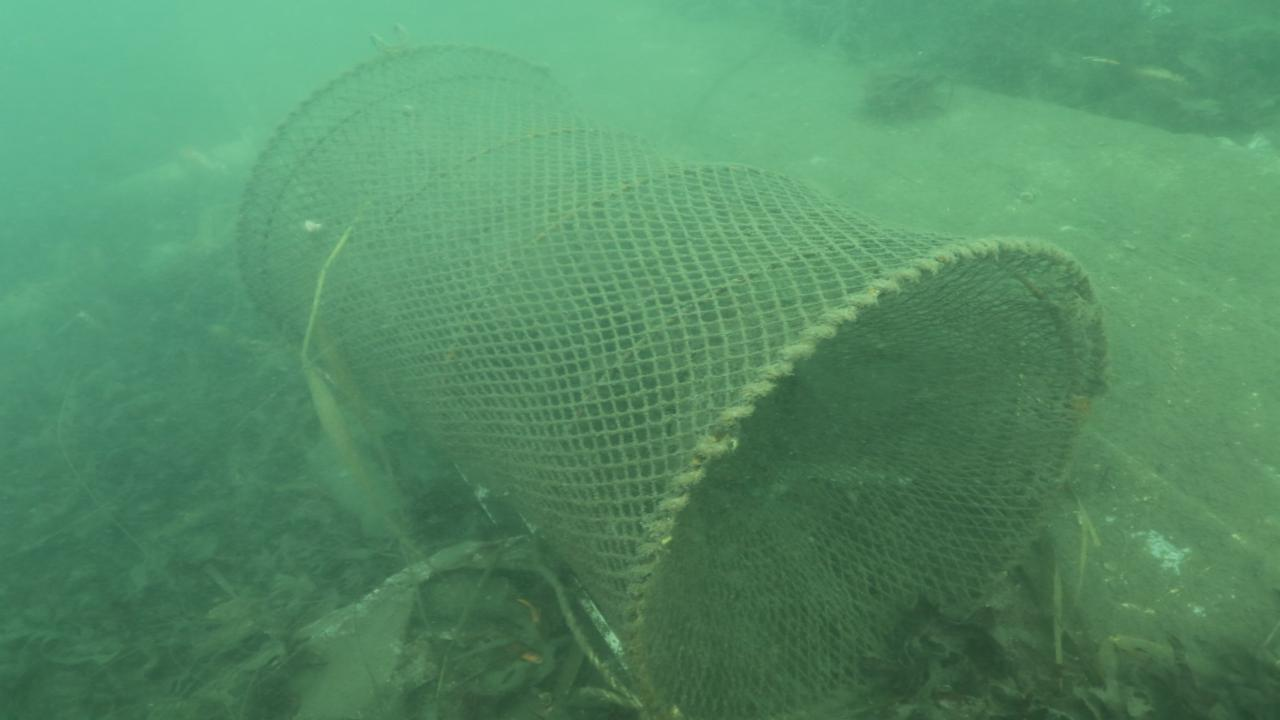spring fish trap: (231, 36, 1106, 720)
